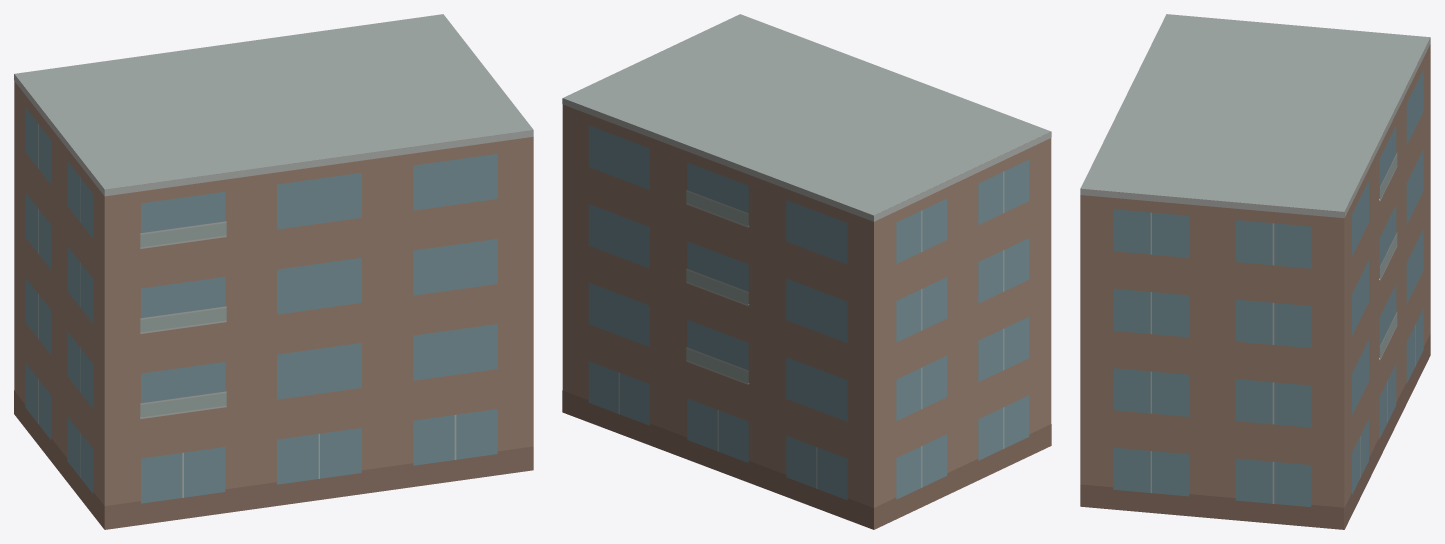
File: residential-2bcdd6f2-74d4-4a09-a707-5bd646a1b392.glb
The picture shows the model from 3 angles, left to right: view 1: azimuth 30°, elevation 25°; view 2: azimuth 150°, elevation 25°; view 3: azimuth 270°, elevation 25°; orthographic projection. The views are drawn at different scales.
Parts seen in each view (by area): view 1: residential-2bcdd6f2-74d4-4a09-a707-5bd646a1b392.tmp; view 2: residential-2bcdd6f2-74d4-4a09-a707-5bd646a1b392.tmp; view 3: residential-2bcdd6f2-74d4-4a09-a707-5bd646a1b392.tmp.
Boxes of the visible parts, x1,y1,x2,y2 form: residential-2bcdd6f2-74d4-4a09-a707-5bd646a1b392.tmp: (14,14,533,529); residential-2bcdd6f2-74d4-4a09-a707-5bd646a1b392.tmp: (562,14,1051,529); residential-2bcdd6f2-74d4-4a09-a707-5bd646a1b392.tmp: (1080,14,1430,529).
Size of the model in its own units: 16.29 by 12.2 by 12.19.
